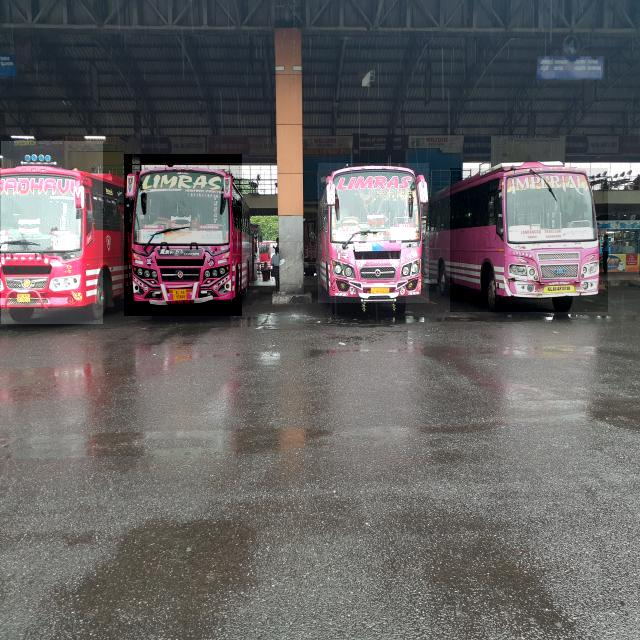Bus: (450, 168, 608, 312), (124, 154, 242, 316), (2, 141, 104, 324), (318, 164, 429, 304)
